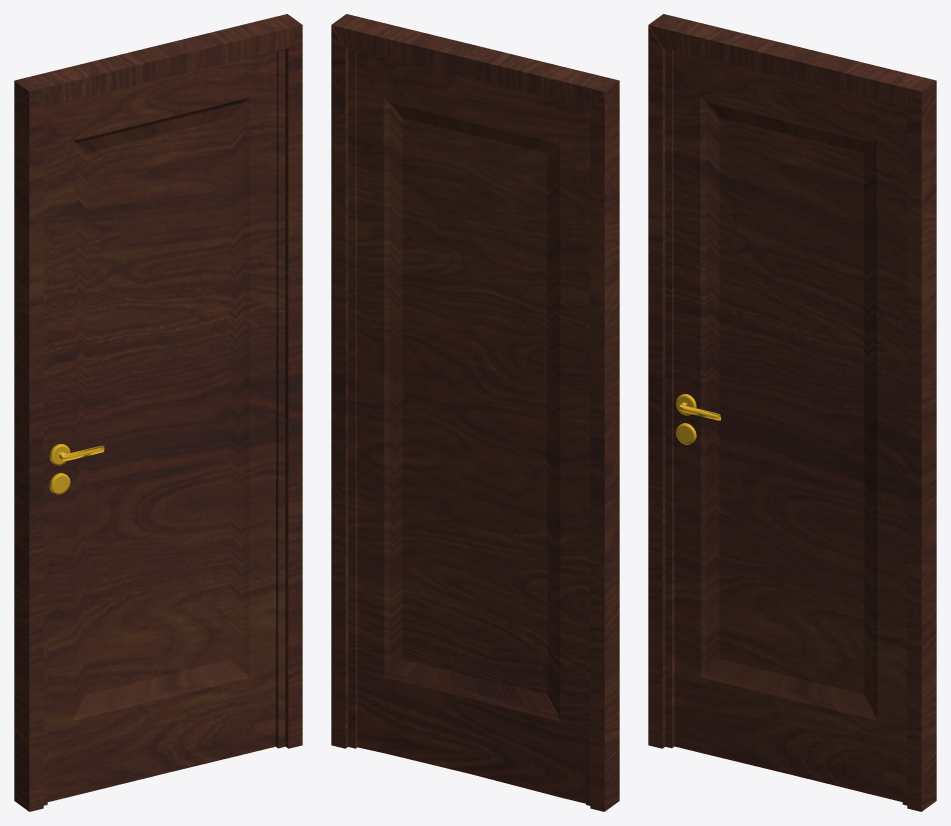
The model's file is PUERTA40_TOSCANA.glb.
The picture shows the model from 3 angles, left to right: view 1: azimuth 30°, elevation 25°; view 2: azimuth 150°, elevation 25°; view 3: azimuth 330°, elevation 25°; orthographic projection.
Parts seen in each view (by area): view 1: Puerta40_TOSCANA, Puerta40_Marco, Puerta40_Cerradura; view 2: Puerta40_TOSCANA, Puerta40_Marco; view 3: Puerta40_TOSCANA, Puerta40_Marco, Puerta40_Cerradura.
Part boxes in pixels (x1=…): Puerta40_TOSCANA: x1=43, y1=49, x2=285, y2=805; Puerta40_Marco: x1=14, y1=14, x2=302, y2=811; Puerta40_Cerradura: x1=49, y1=444, x2=104, y2=494; Puerta40_TOSCANA: x1=348, y1=49, x2=590, y2=805; Puerta40_Marco: x1=331, y1=14, x2=619, y2=811; Puerta40_TOSCANA: x1=665, y1=49, x2=907, y2=805; Puerta40_Marco: x1=648, y1=14, x2=936, y2=811; Puerta40_Cerradura: x1=675, y1=394, x2=721, y2=444.
Bounding box in the file's own units: 769 × 1936 × 85.
3 materials, 2 textured.
